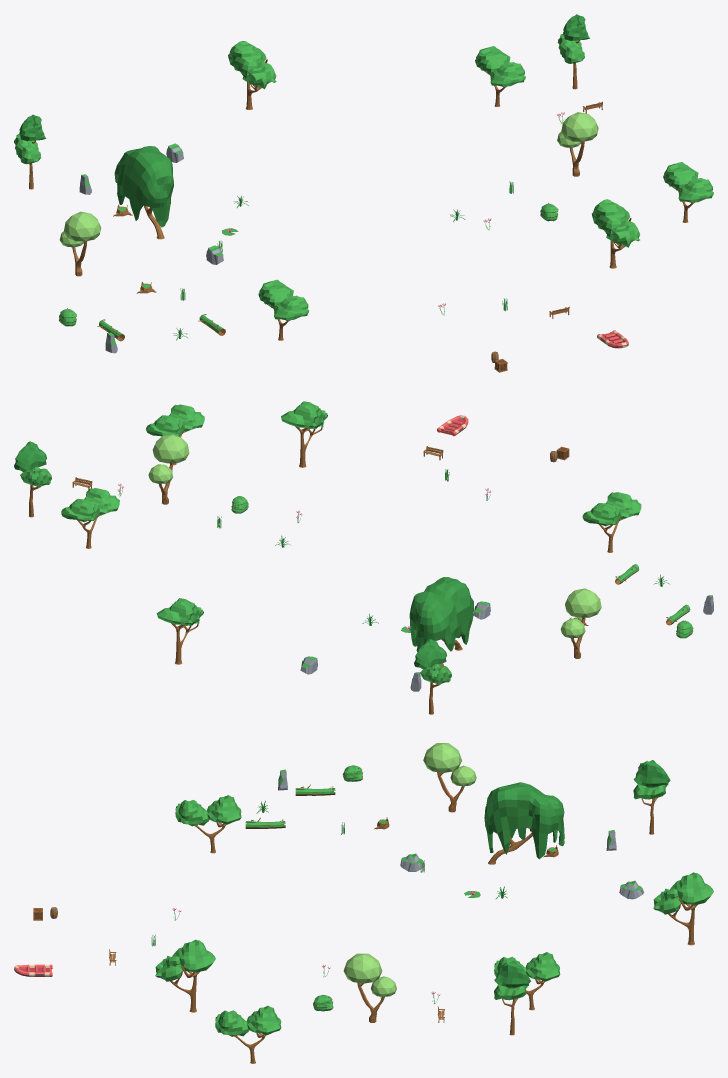
Rendered from level.glb.
3 renders of one model, top to bottom at view 1: azimuth 30°, elevation 25°; view 2: azimuth 150°, elevation 25°; view 3: azimuth 270°, elevation 25°, orthographic. The views are drawn at different scales.
Parts seen in each view (by area): view 1: Willow_2.001, CommonTree_2.001, CommonTree_2.002, CommonTree_1.002, CommonTree_1.001, CommonTree_1.003, Tree1.001, Tree1.002, CommonTree_3.002, CommonTree_3.001; view 2: Willow_2.001, CommonTree_1.002, Tree1.001, CommonTree_1.001, Tree1.002, CommonTree_3.001, CommonTree_3.002, CommonTree_1.003, CommonTree_2.001, CommonTree_2.002; view 3: Willow_2.001, CommonTree_2.002, CommonTree_2.001, CommonTree_1.003, CommonTree_1.002, Tree1.001, Tree1.002, CommonTree_3.002, CommonTree_3.001, CommonTree_1.001.
Part boxes in pixels (left/top/right/bottom): Willow_2.001: left=114, top=146, right=173, bottom=239; CommonTree_2.001: left=592, top=199, right=640, bottom=268; CommonTree_2.002: left=228, top=41, right=276, bottom=109; CommonTree_1.002: left=258, top=279, right=309, bottom=340; CommonTree_1.001: left=475, top=46, right=525, bottom=106; CommonTree_1.003: left=663, top=162, right=713, bottom=222; Tree1.001: left=557, top=112, right=598, bottom=176; Tree1.002: left=59, top=211, right=101, bottom=276; CommonTree_3.002: left=14, top=114, right=46, bottom=189; CommonTree_3.001: left=557, top=14, right=589, bottom=89; Willow_2.001: left=409, top=577, right=473, bottom=651; CommonTree_1.002: left=582, top=492, right=641, bottom=552; Tree1.001: left=148, top=434, right=189, bottom=504; CommonTree_1.001: left=61, top=488, right=119, bottom=548; Tree1.002: left=560, top=588, right=601, bottom=658; CommonTree_3.001: left=14, top=441, right=51, bottom=517; CommonTree_3.002: left=414, top=639, right=451, bottom=714; CommonTree_1.003: left=146, top=404, right=204, bottom=465; CommonTree_2.001: left=281, top=401, right=327, bottom=467; CommonTree_2.002: left=156, top=598, right=203, bottom=664; Willow_2.001: left=484, top=782, right=564, bottom=864; CommonTree_2.002: left=653, top=872, right=713, bottom=945; CommonTree_2.001: left=155, top=939, right=215, bottom=1012; CommonTree_1.003: left=215, top=1005, right=281, bottom=1063; CommonTree_1.002: left=175, top=795, right=241, bottom=853; Tree1.001: left=343, top=953, right=396, bottom=1022; Tree1.002: left=423, top=743, right=476, bottom=812; CommonTree_3.002: left=633, top=760, right=670, bottom=834; CommonTree_3.001: left=494, top=960, right=530, bottom=1035; CommonTree_1.001: left=494, top=952, right=560, bottom=1010.
Bounding box in the file's own units: 71.24 × 12.83 × 70.28.
